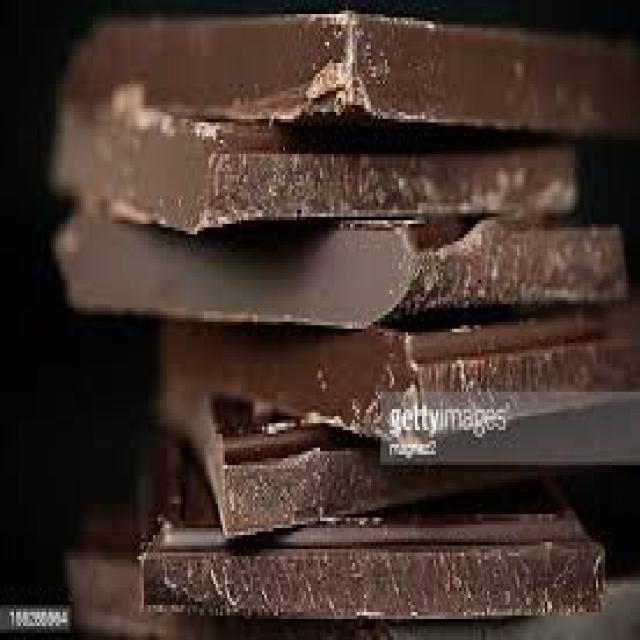Chocolate: (54, 0, 640, 640)
